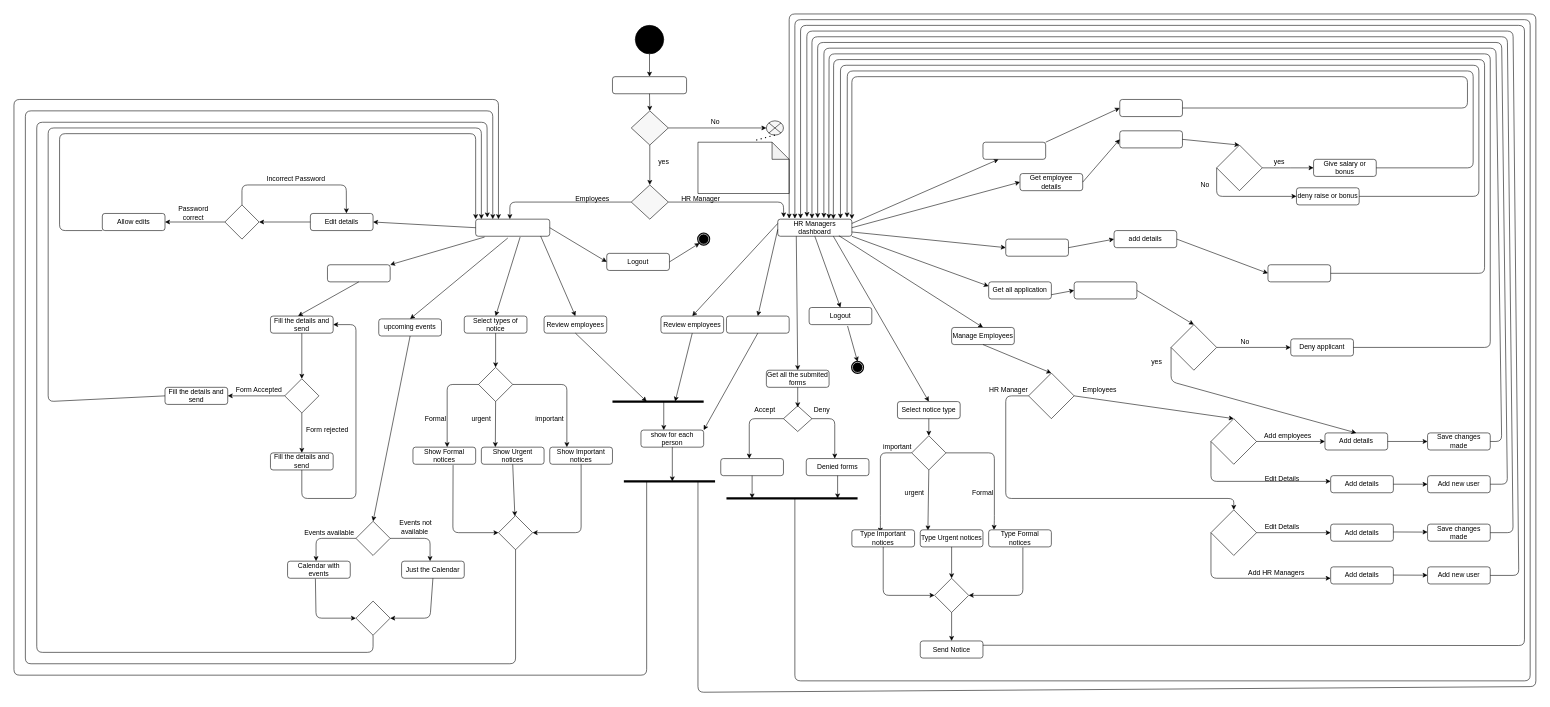
Some shapes in this 1550 by 707 pixel diagram are drawn without their labels. Each missing label, with the centre of its shape:
"Accepted forms" goes at (x=751, y=467).
"Add the form" goes at (x=1299, y=273).
"check employee performance" goes at (x=1150, y=139).
"Employees dashboard" goes at (x=512, y=227).
"Login" goes at (x=649, y=85).
"Select a form type" goes at (x=1036, y=247).
"Select a type of form" goes at (x=358, y=273).
"Select Qualified applicants" goes at (x=1105, y=290).
"Show all the analysis" goes at (x=1014, y=150).
"Show the selected analysis" goes at (x=1150, y=108).
"Since it is for a companies the user should be registerd by HR Managers" goes at (x=743, y=168).
"View reviews" goes at (x=757, y=324).
